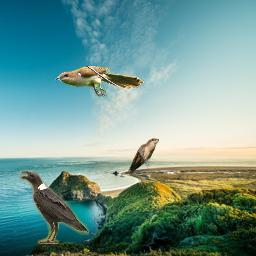Crow: (19, 170, 89, 244)
Cuckoo: (55, 66, 144, 97), (127, 138, 159, 176)
